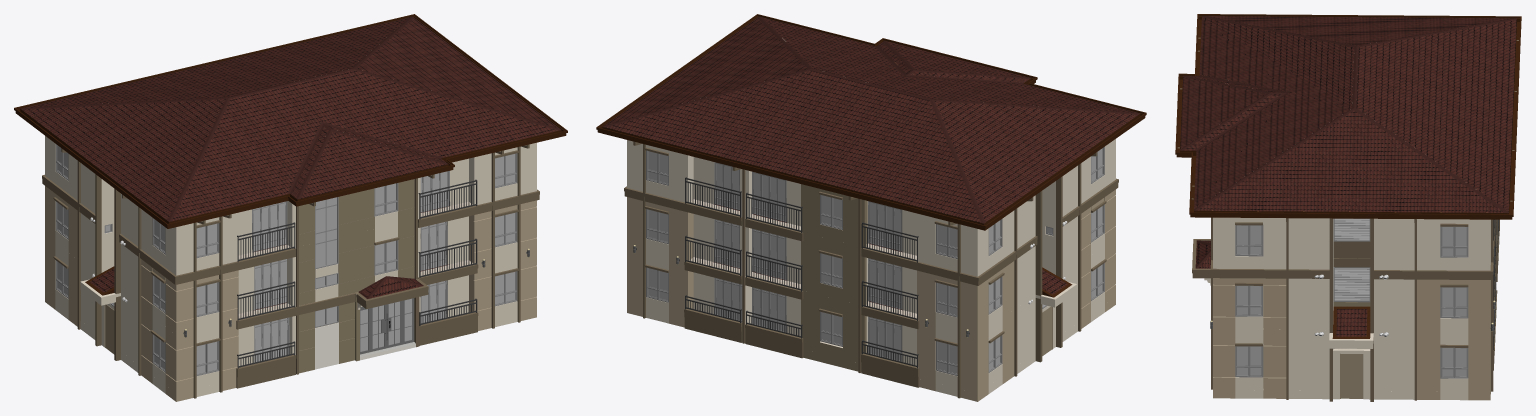
The model's file is bldg1-optimized.glb.
3 renders of one model, left to right at view 1: azimuth 30°, elevation 25°; view 2: azimuth 150°, elevation 25°; view 3: azimuth 270°, elevation 25°, orthographic. The views are drawn at different scales.
Parts seen in each view (by area): view 1: Group738, Component_395_1, Component_84_1, Component_403_1, Component_81_1, Component_87_1, Group858, Component_400_1, Component_3834_1, Group821, Component_3863_2, Group737 (+11 smaller); view 2: Group738, Component_84_1, Component_395_1, Component_403_1, Component_81_1, Component_87_1, Group858, Group821, Component_3863_1, Component_3863_2, Component_3867_8, Component_3867_5 (+5 smaller); view 3: Group738, Component_84_1, Component_395_1, Component_403_1, Component_81_1, Group858, Component_87_1, Group293, Group307, Group291, Component_3863_4, Group294 (+7 smaller).
Part boxes in pixels (x1,y1,x2,y2): Group738: [21, 16, 560, 221]; Component_395_1: [45, 186, 536, 334]; Component_84_1: [45, 235, 536, 393]; Component_403_1: [45, 136, 536, 275]; Component_81_1: [14, 14, 567, 228]; Component_87_1: [45, 294, 536, 401]; Group858: [42, 174, 539, 284]; Component_400_1: [360, 298, 414, 354]; Component_3834_1: [315, 197, 336, 267]; Group821: [236, 268, 477, 329]; Component_3863_2: [114, 188, 120, 360]; Group737: [315, 322, 338, 369]; Group738: [602, 16, 1140, 223]; Component_84_1: [627, 238, 1115, 393]; Component_395_1: [627, 189, 1115, 335]; Component_403_1: [627, 38, 1115, 276]; Component_81_1: [596, 14, 1146, 230]; Component_87_1: [627, 297, 1115, 401]; Group858: [624, 178, 1118, 285]; Group821: [684, 261, 919, 329]; Component_3863_1: [1035, 191, 1042, 362]; Component_3863_2: [1056, 176, 1062, 347]; Component_3867_8: [732, 167, 745, 343]; Component_3867_5: [948, 221, 960, 398]; Group738: [1180, 16, 1516, 212]; Component_84_1: [1213, 329, 1490, 391]; Component_395_1: [1213, 261, 1490, 331]; Component_403_1: [1213, 217, 1490, 270]; Component_81_1: [1175, 14, 1521, 219]; Group858: [1210, 220, 1494, 279]; Component_87_1: [1213, 231, 1499, 400]; Group293: [1332, 306, 1370, 338]; Group307: [1341, 354, 1362, 398]; Group291: [1333, 349, 1370, 399]; Component_3863_4: [1370, 218, 1373, 401]; Group294: [1333, 241, 1370, 258].
Size of the model in its own units: 8.03 by 4.4 by 5.84.
53 materials, 13 textured.
